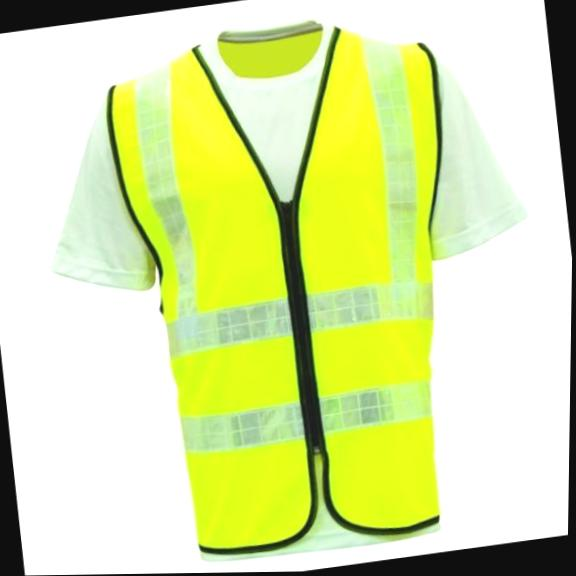safety_vest: (89, 5, 492, 572)
